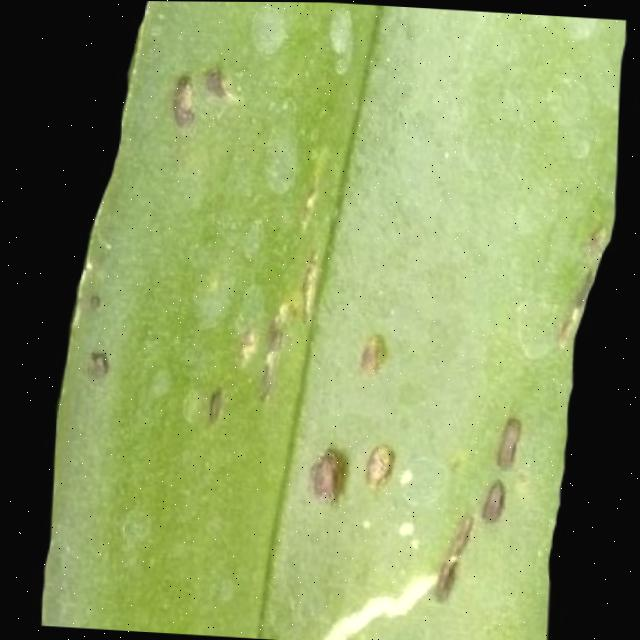mite: (63, 279, 537, 528), (306, 433, 400, 508), (477, 410, 527, 525), (496, 413, 526, 469), (364, 440, 397, 489), (480, 477, 509, 522), (205, 65, 232, 101), (206, 385, 228, 424), (87, 348, 112, 378), (88, 290, 105, 311)
spots: (37, 0, 631, 640)
